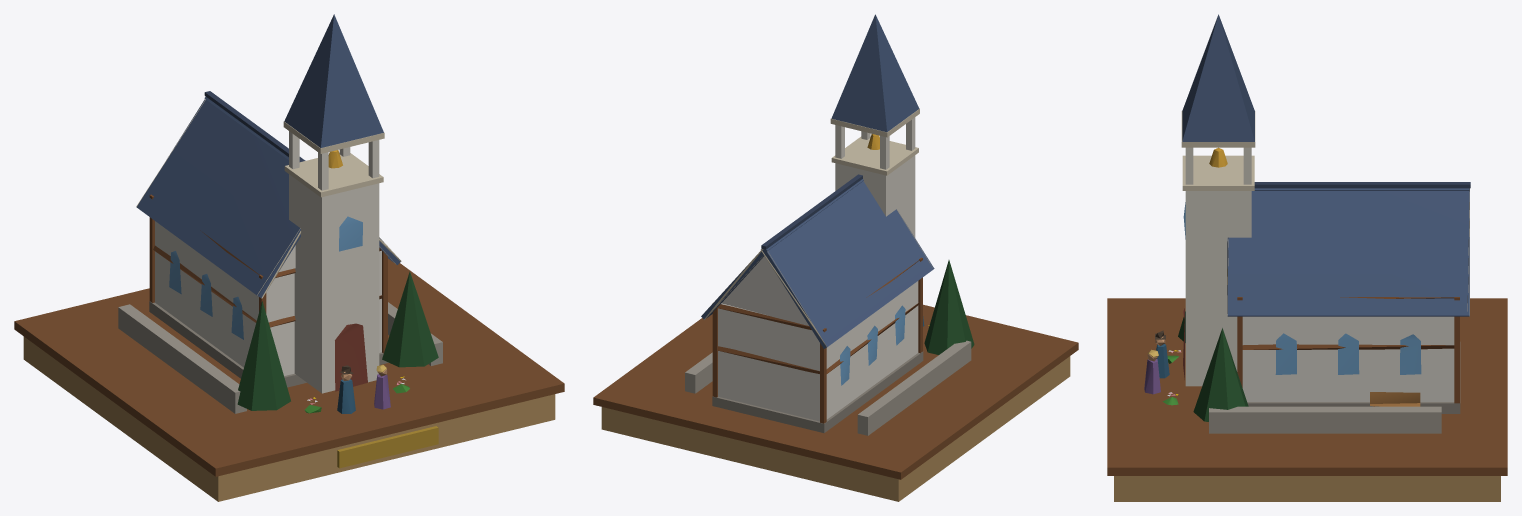
The model's file is chapel_souvenir.glb.
3 renders of one model, left to right at view 1: azimuth 30°, elevation 25°; view 2: azimuth 150°, elevation 25°; view 3: azimuth 270°, elevation 25°, orthographic. The views are drawn at different scales.
Parts seen in each view (by area): view 1: decor-chapel_souvenir; view 2: decor-chapel_souvenir; view 3: decor-chapel_souvenir.
Boxes of the visible parts, left/top/right/bottom form: decor-chapel_souvenir: left=14, top=14, right=564, bottom=501; decor-chapel_souvenir: left=593, top=14, right=1078, bottom=501; decor-chapel_souvenir: left=1107, top=14, right=1507, bottom=501.
Bounding box in the file's own units: 1.76 × 1.97 × 1.76.
